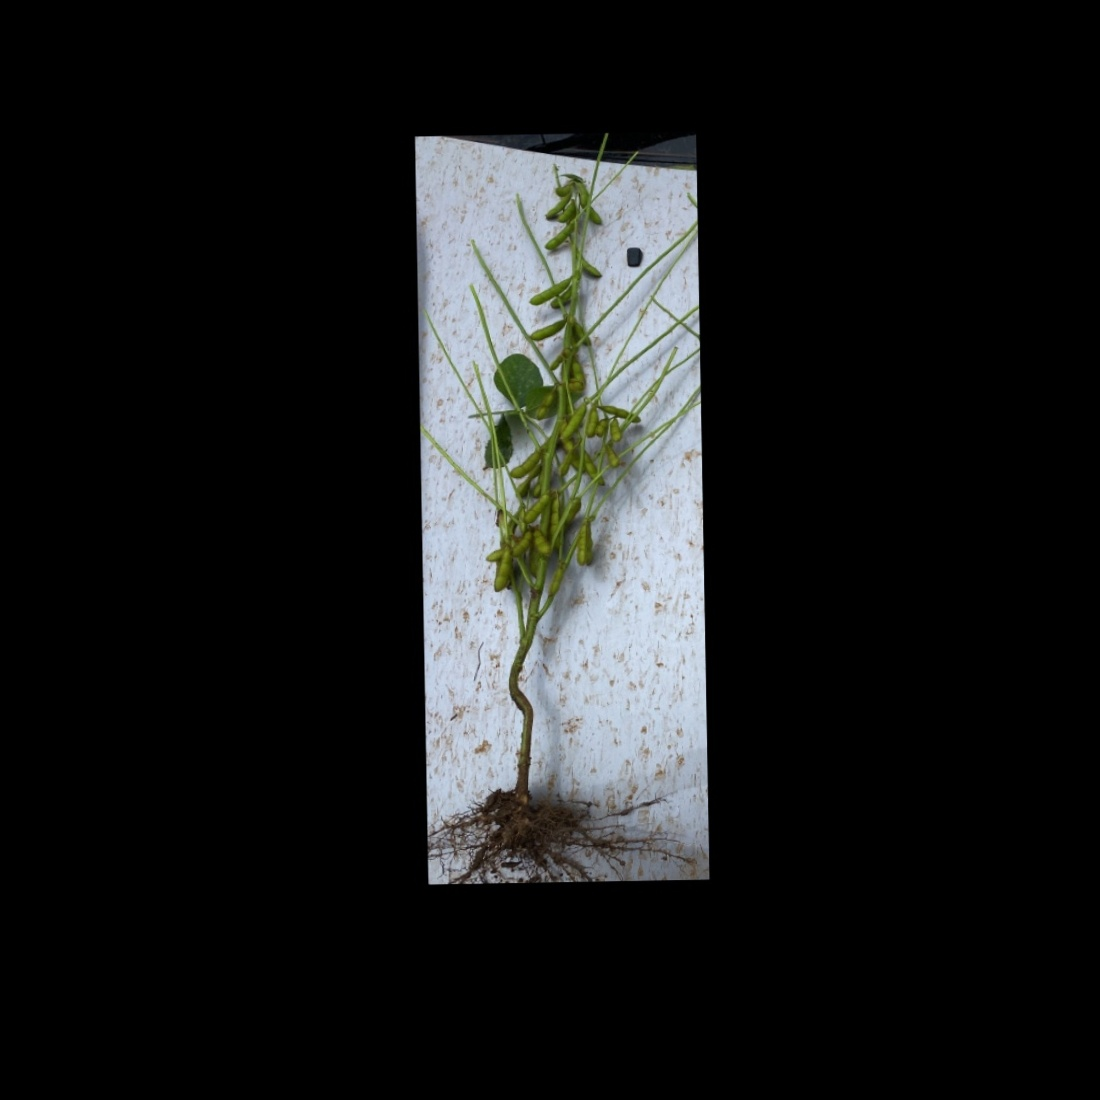pod: (560, 403, 588, 440), (492, 546, 513, 594), (528, 315, 565, 341), (521, 493, 552, 524), (595, 402, 641, 423), (581, 452, 606, 488), (574, 249, 603, 279), (542, 223, 573, 251), (574, 521, 587, 567), (510, 530, 532, 557), (585, 521, 596, 567), (532, 530, 552, 555), (585, 407, 599, 439), (548, 566, 562, 596), (607, 417, 623, 443), (556, 204, 576, 224)
soy: (425, 163, 663, 848)
